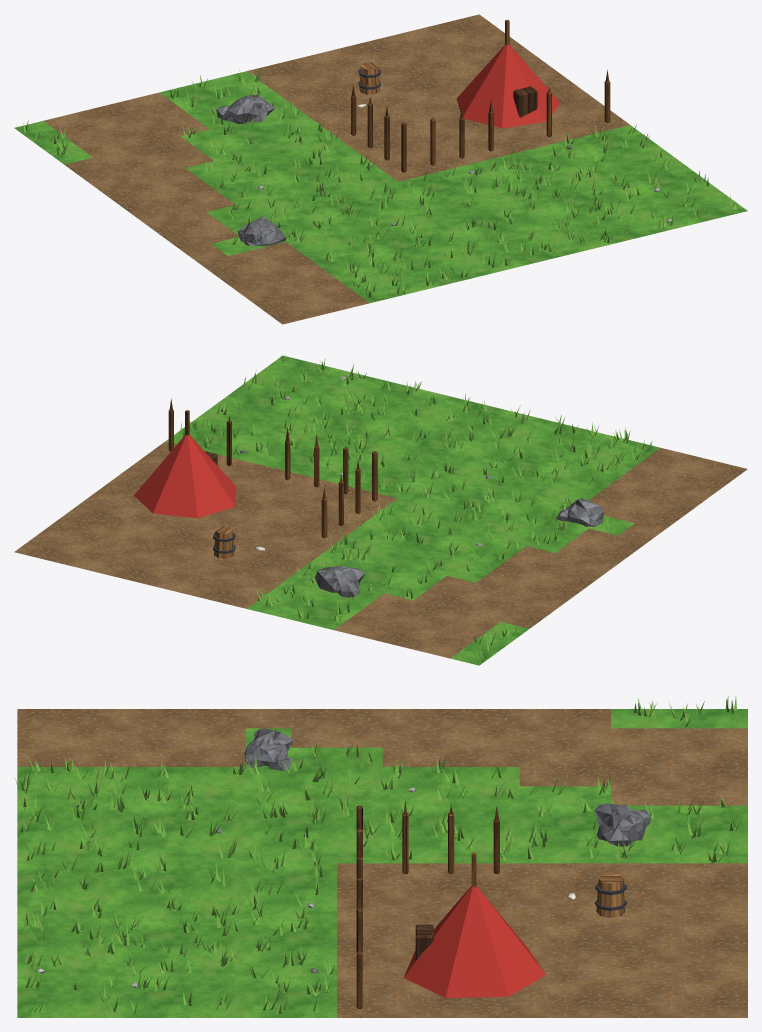
The model's file is chunk_2_5.glb.
The picture shows the model from 3 angles, top to bottom: view 1: azimuth 30°, elevation 25°; view 2: azimuth 150°, elevation 25°; view 3: azimuth 270°, elevation 25°; orthographic projection. The views are drawn at different scales.
Parts seen in each view (by area): view 1: chunk_2_5; view 2: chunk_2_5; view 3: chunk_2_5.
Part boxes in pixels (x1,y1,x2,y2): chunk_2_5: (14, 14, 747, 324); chunk_2_5: (14, 355, 747, 665); chunk_2_5: (15, 696, 747, 1017).
Bounding box in the file's own units: 16.12 × 3.19 × 16.07.
Materials: 12 (8 with a texture image).
